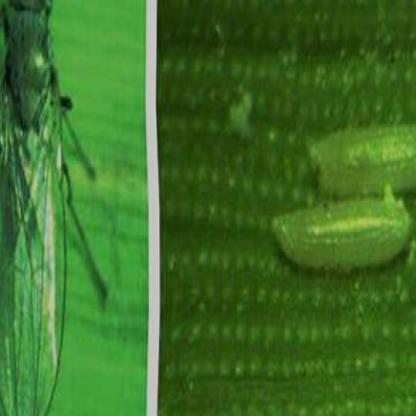whorl-maggot: (269, 196, 415, 268), (299, 128, 416, 198)
